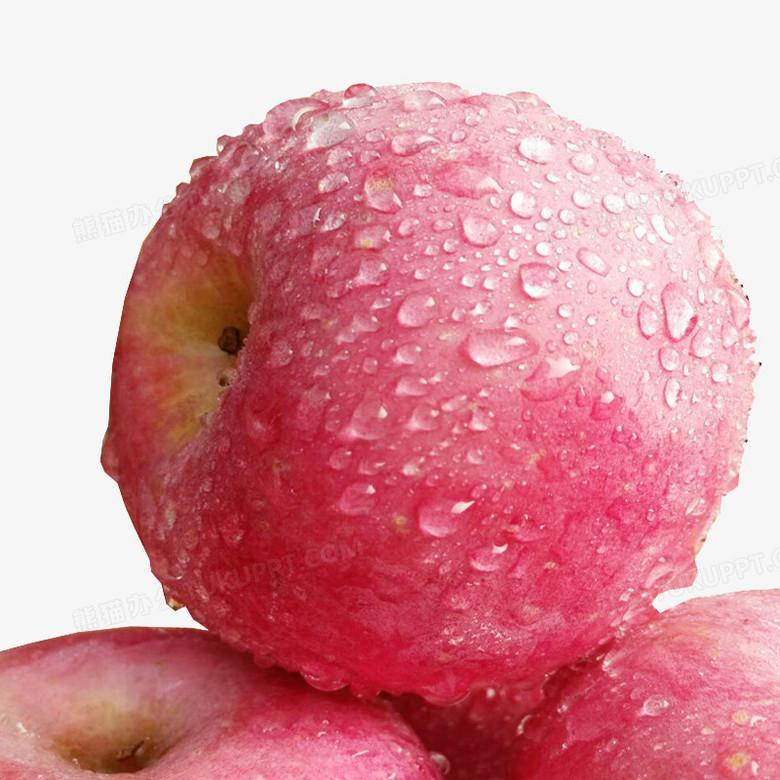apple: (91, 79, 757, 701), (1, 623, 441, 780)
